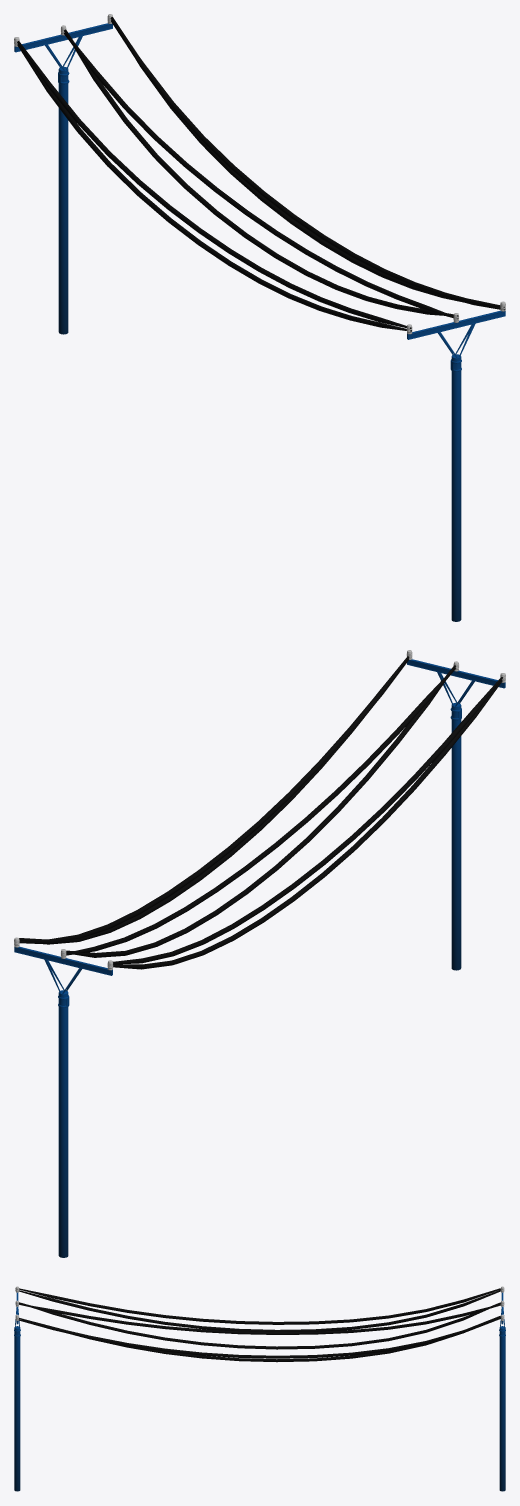
Rendered from SM_Props_Electric_01.fbx.
The picture shows the model from 3 angles, top to bottom: view 1: azimuth 30°, elevation 25°; view 2: azimuth 150°, elevation 25°; view 3: azimuth 270°, elevation 25°; orthographic projection. The views are drawn at different scales.
Parts seen in each view (by area): view 1: transform39; view 2: transform39; view 3: transform39.
Part boxes in pixels (<box>): transform39: <box>14,14,505,621</box>; transform39: <box>14,650,505,1257</box>; transform39: <box>14,1286,505,1491</box>.
Size of the model in its own units: 116 by 344 by 811.
